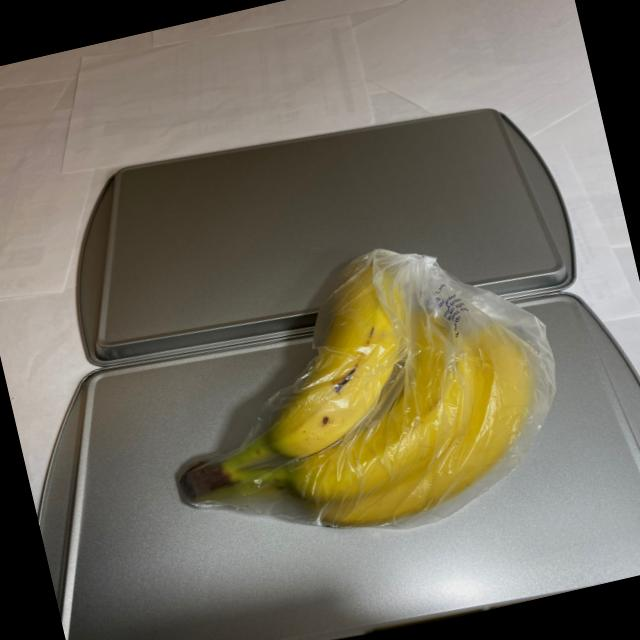banana: (132, 209, 578, 578)
